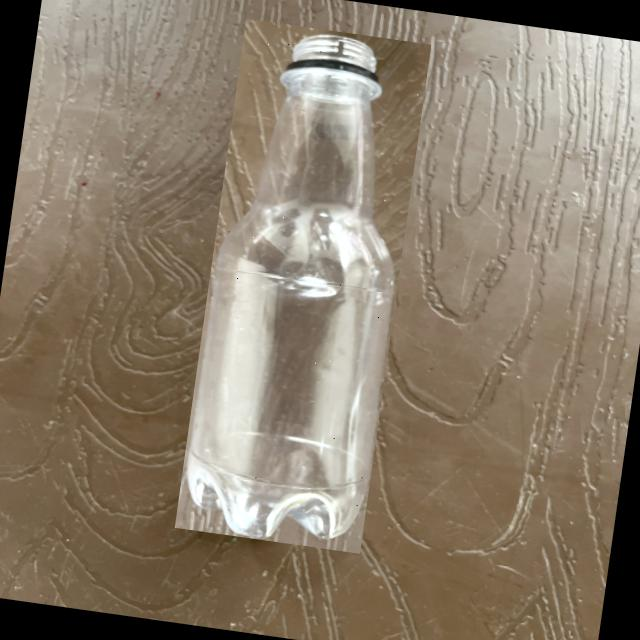PET_With_Cap: (175, 19, 432, 554)
